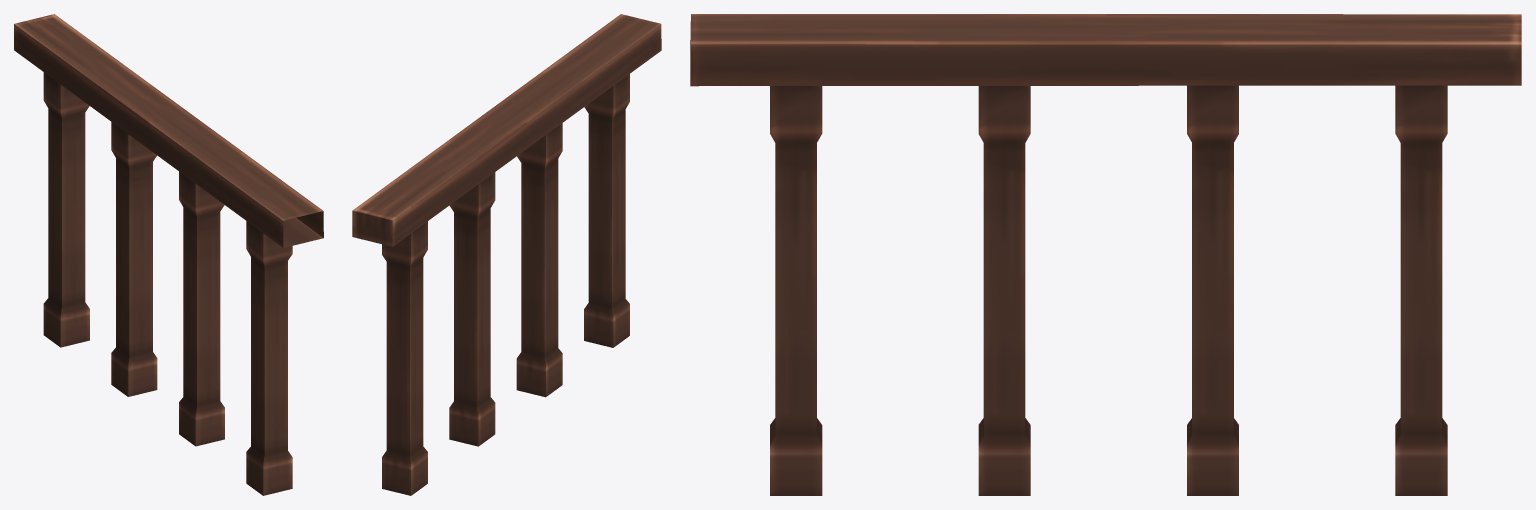
The model's file is Stair_border_plate.fbx.
3 renders of one model, left to right at view 1: azimuth 30°, elevation 25°; view 2: azimuth 150°, elevation 25°; view 3: azimuth 270°, elevation 25°, orthographic. The views are drawn at different scales.
Visible parts, largest first — view 1: stair_border_plate; view 2: stair_border_plate; view 3: stair_border_plate.
Part boxes in pixels (<box>): stair_border_plate: <box>14,14,323,495</box>; stair_border_plate: <box>352,14,661,495</box>; stair_border_plate: <box>690,14,1521,495</box>.
Bounding box in the file's own units: 0.1733 × 1.21 × 1.99.
